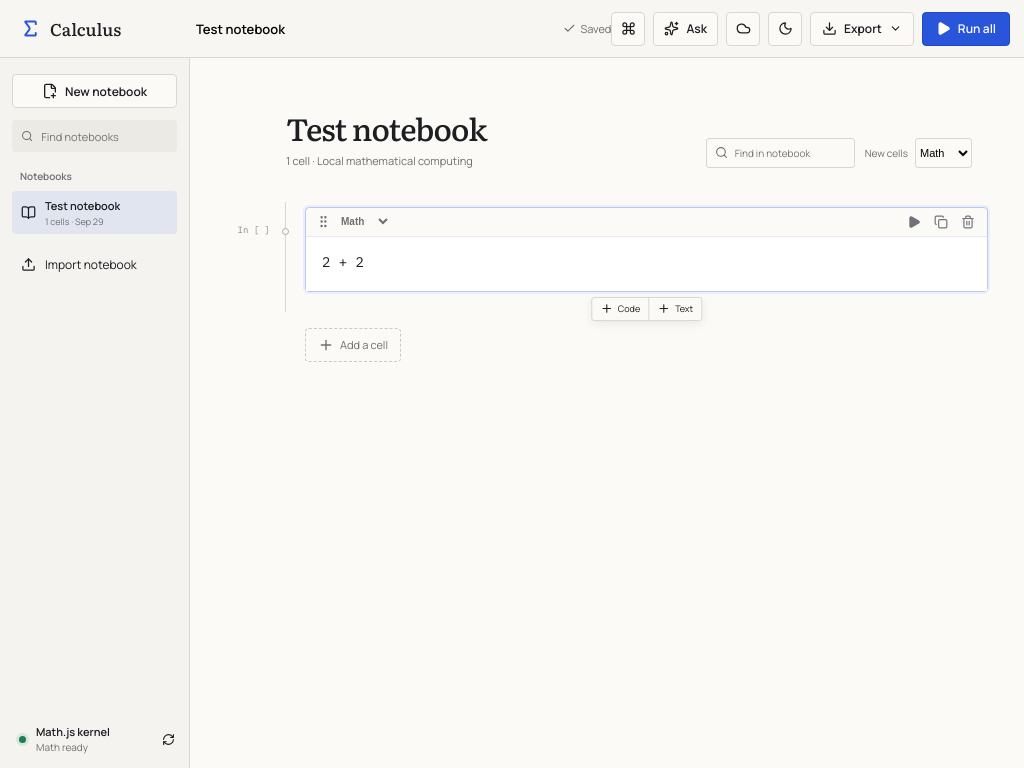
Test case: notebook application › runs all code cells and displays their output
This screenshot has width=1024, height=768.
Step 1. Click the button "Run all" → (966, 28), box left=922, top=12, right=1010, bottom=46
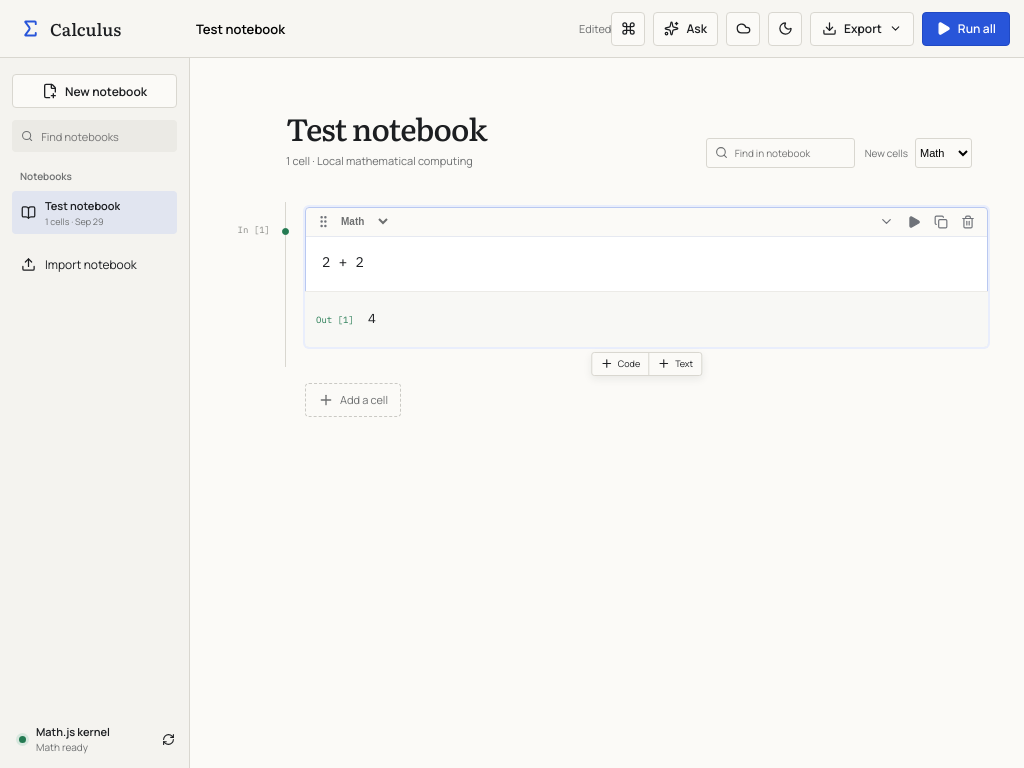
Now the text "4" is shown, box left=368, top=310, right=376, bottom=327
Now the text "Out [1]" is shown, box left=316, top=314, right=354, bottom=325
